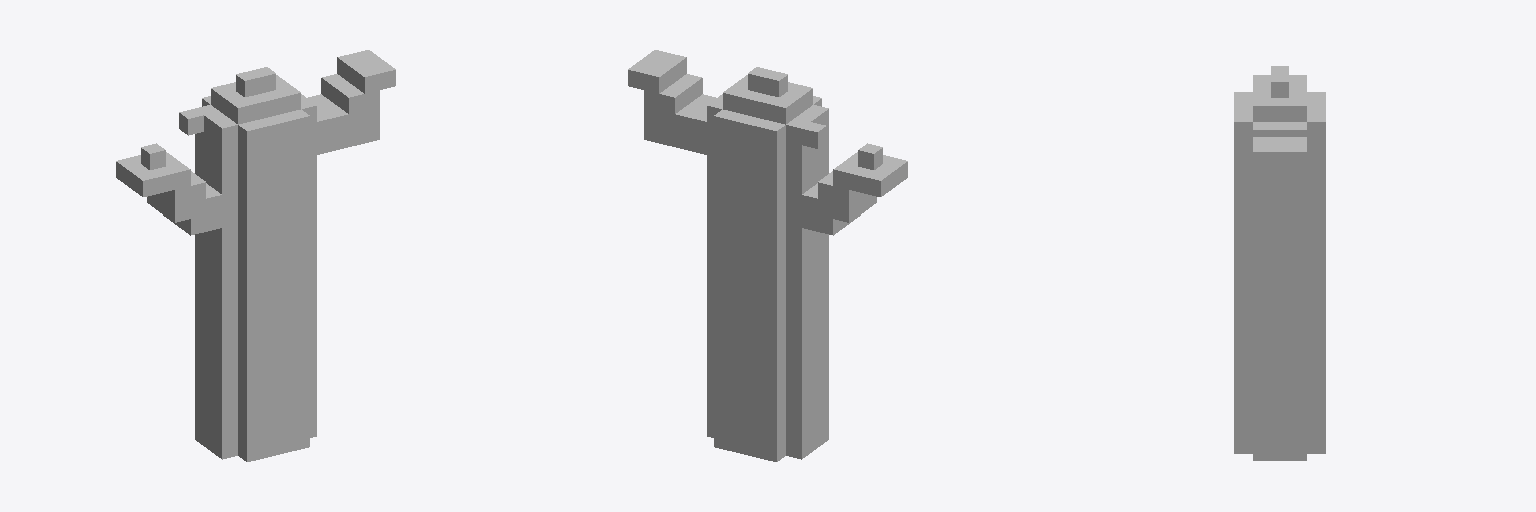
File: кактус 2 обычный.obj
3 renders of one model, left to right at view 1: azimuth 30°, elevation 25°; view 2: azimuth 150°, elevation 25°; view 3: azimuth 270°, elevation 25°, orthographic.
Visible parts, largest first — view 1: object 1; view 2: object 1; view 3: object 1.
Boxes of the visible parts, <box> form: object 1: <box>116,50,395,461</box>; object 1: <box>628,50,907,461</box>; object 1: <box>1234,66,1325,460</box>.
Size of the model in its own units: 1.6 by 2.2 by 0.5.